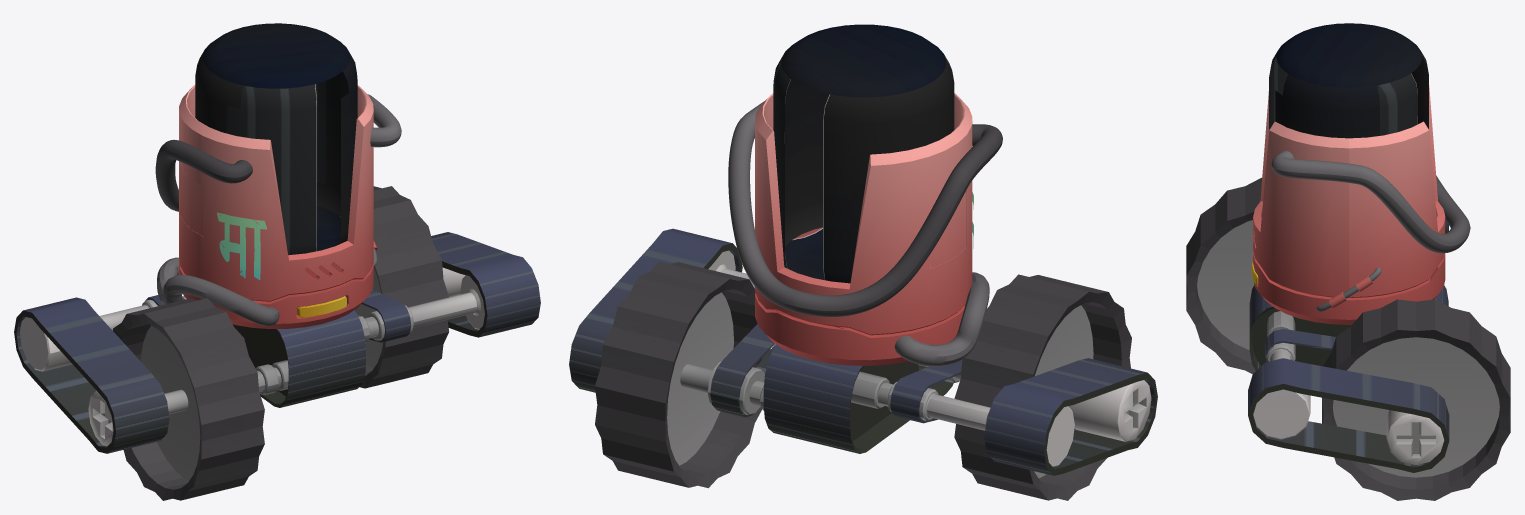
Rendered from robot1xunity.fbx.
The picture shows the model from 3 angles, left to right: view 1: azimuth 30°, elevation 25°; view 2: azimuth 150°, elevation 25°; view 3: azimuth 270°, elevation 25°; orthographic projection. The views are drawn at different scales.
Visible parts, largest first — view 1: base metallo, capsule.001, tire 1, belt 1, tire 2, base belts, base cavi, belt 2, base alberi, vite 1, base luci; view 2: capsule.001, base metallo, tire 2, tire 1, base belts, base cavi, belt 1, belt 2, base alberi, vite 1, vite 2; view 3: base metallo, tire 2, capsule.001, belt 2, tire 1, base cavi, base belts, base alberi, vite 2.
Boxes of the visible parts, x1,y1,x2,y2 form: base metallo: (179,85,377,328); capsule.001: (195,23,357,255); tire 1: (113,298,264,500); belt 1: (14,297,169,453); tire 2: (354,186,449,388); base belts: (145,290,411,407); base cavi: (155,94,401,326); belt 2: (431,232,540,337); base alberi: (20,275,484,394); vite 1: (88,389,188,446); base luci: (297,296,346,317); capsule.001: (773,24,954,283); base metallo: (755,93,973,365); tire 2: (595,261,770,488); tire 1: (954,274,1131,500); base belts: (710,324,962,453); base cavi: (728,101,1002,366); belt 1: (984,358,1157,475); belt 2: (569,228,742,392); base alberi: (707,250,1074,467); vite 1: (1068,380,1151,441); vite 2: (680,364,713,392); base metallo: (1253,85,1445,324); tire 2: (1322,299,1510,500); capsule.001: (1269,23,1428,138); belt 2: (1248,358,1449,472); tire 1: (1186,177,1262,373); base cavi: (1271,150,1470,311); base belts: (1249,285,1448,370); base alberi: (1253,311,1310,439); vite 2: (1386,410,1444,465).
Size of the model in its own units: 503 by 337 by 439.
